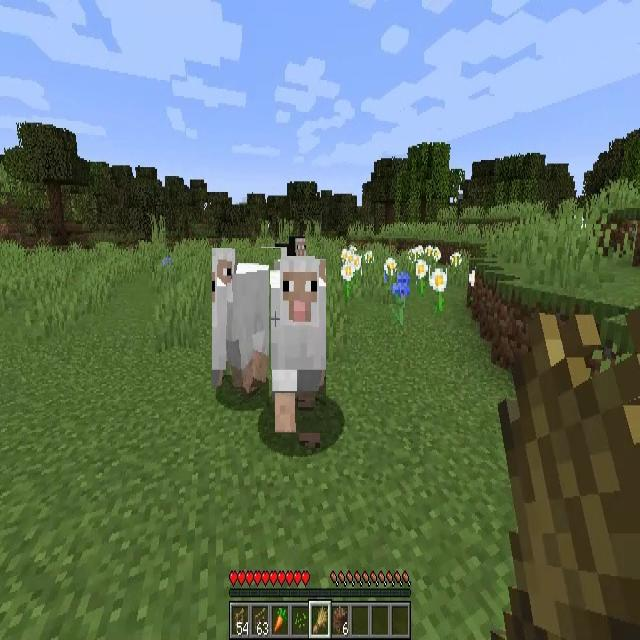flower: (342, 246, 362, 299), (430, 268, 447, 313), (391, 276, 406, 326), (416, 259, 429, 295), (384, 257, 397, 283), (449, 252, 464, 270), (431, 247, 441, 266), (364, 251, 374, 262)
sheep: (269, 259, 326, 433), (212, 248, 281, 387), (276, 234, 310, 258)
